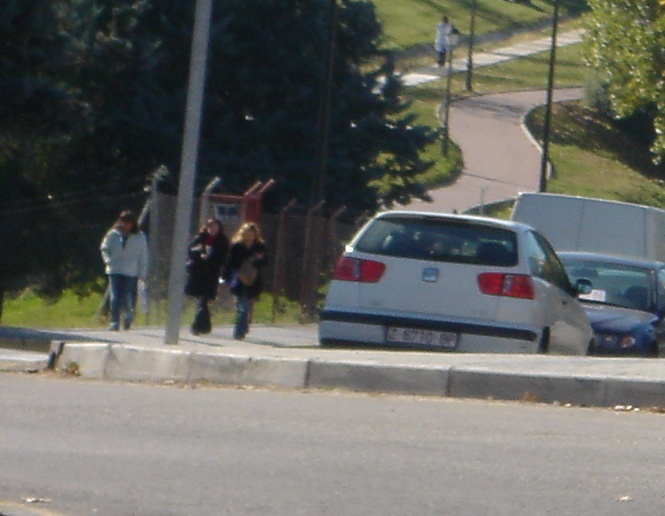person: (98, 206, 151, 332), (222, 221, 271, 339), (187, 213, 228, 337)
